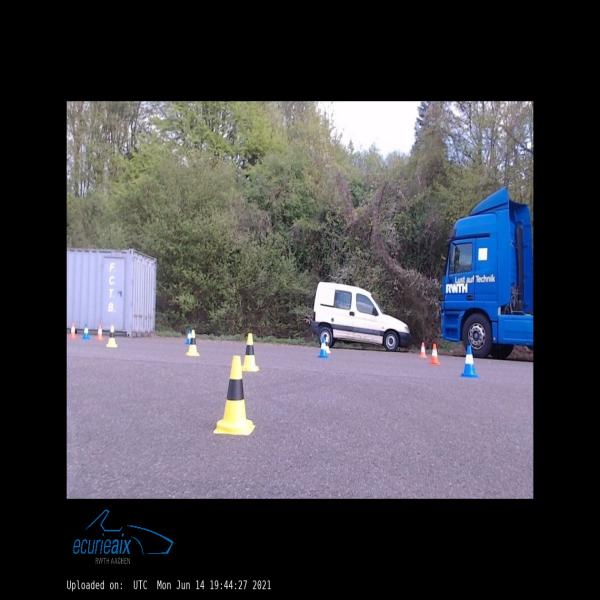blue_cone: (460, 346, 478, 378), (318, 337, 328, 357), (83, 324, 89, 339), (186, 330, 191, 344)
orange_cone: (430, 344, 440, 364), (419, 343, 427, 357), (97, 325, 103, 340), (70, 324, 76, 337)
yellow_cone: (214, 356, 255, 435), (242, 333, 258, 371), (186, 329, 200, 356), (107, 325, 117, 347), (326, 338, 330, 352)
